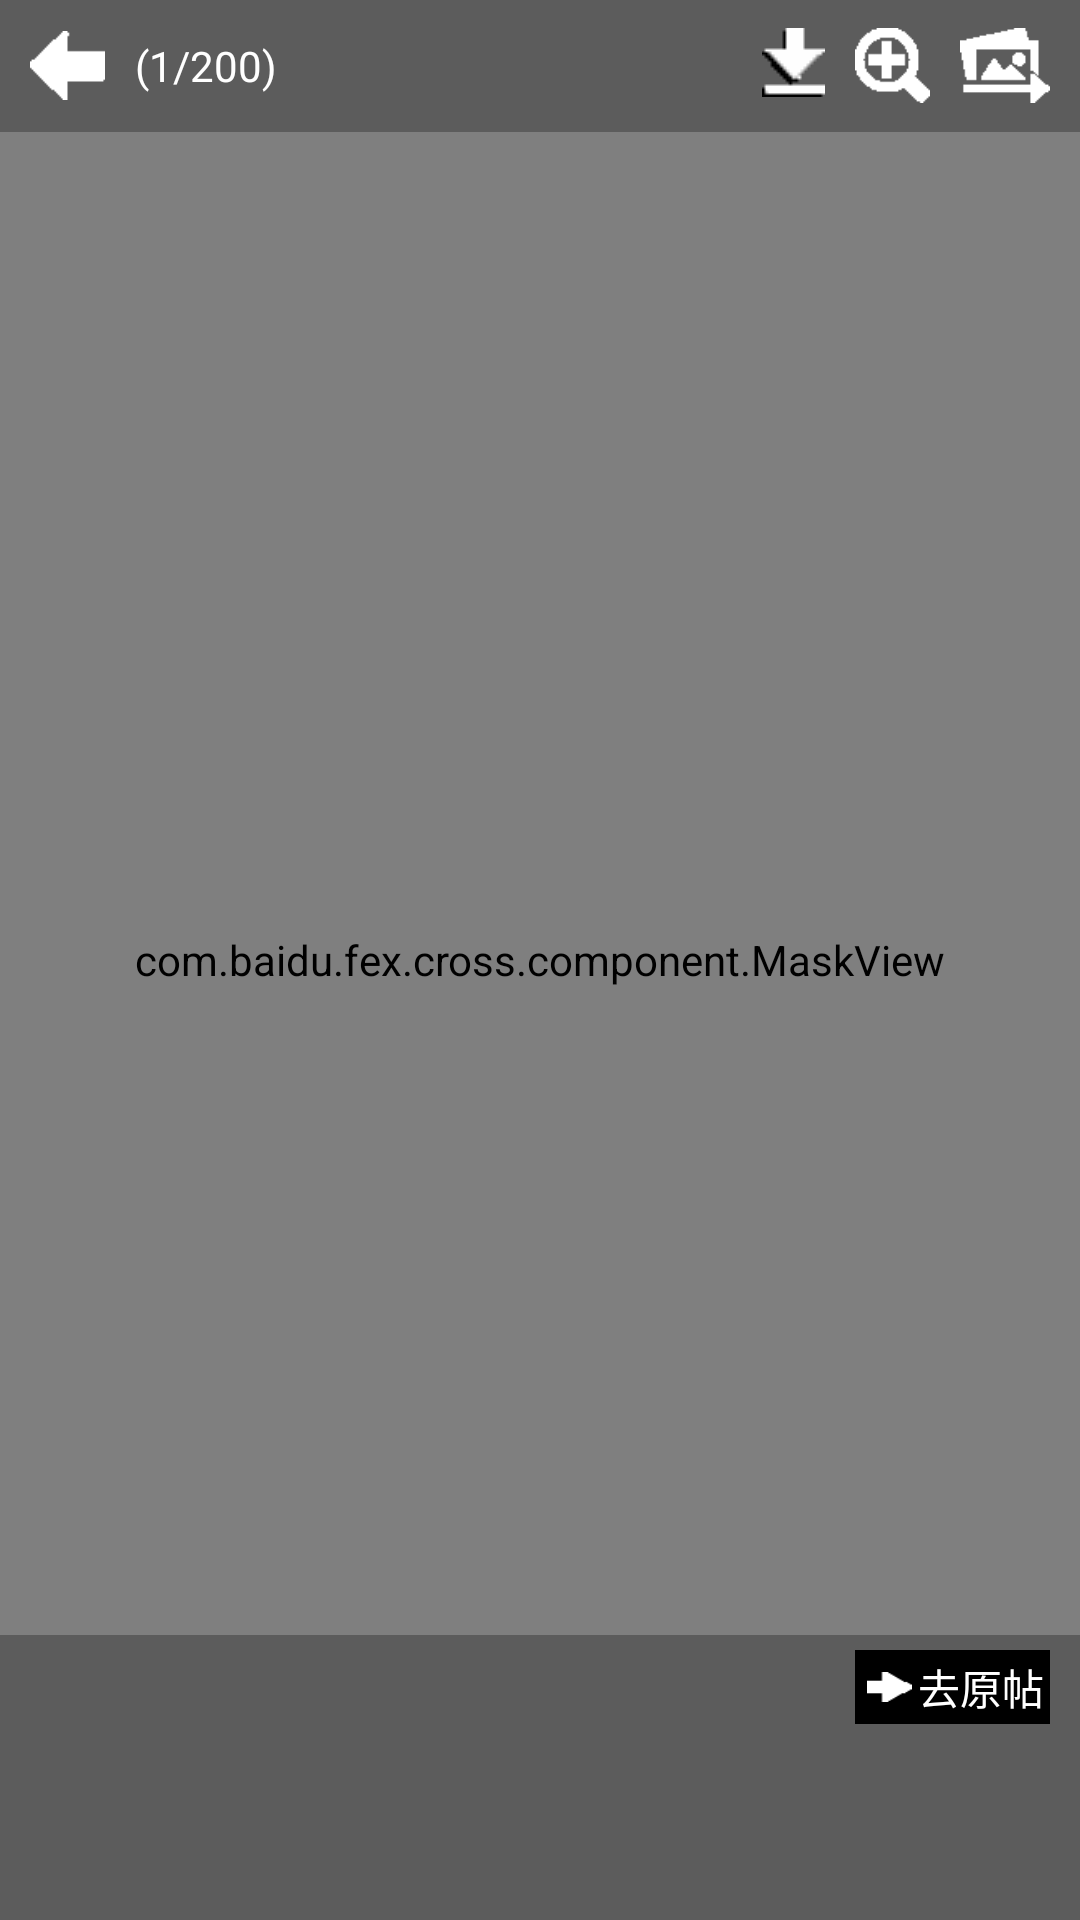

Screen size 1080×1920. Icon name, then its center in pixels as [x,y]:
download: [793,62]
quit: [67,65]
zoom: [892,65]
